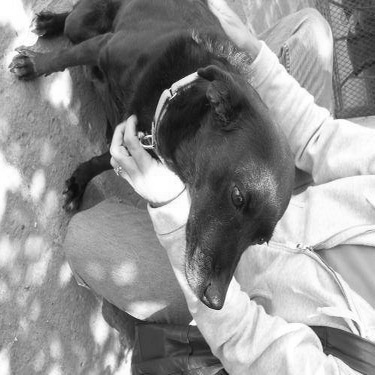dog: (1, 1, 320, 316)
